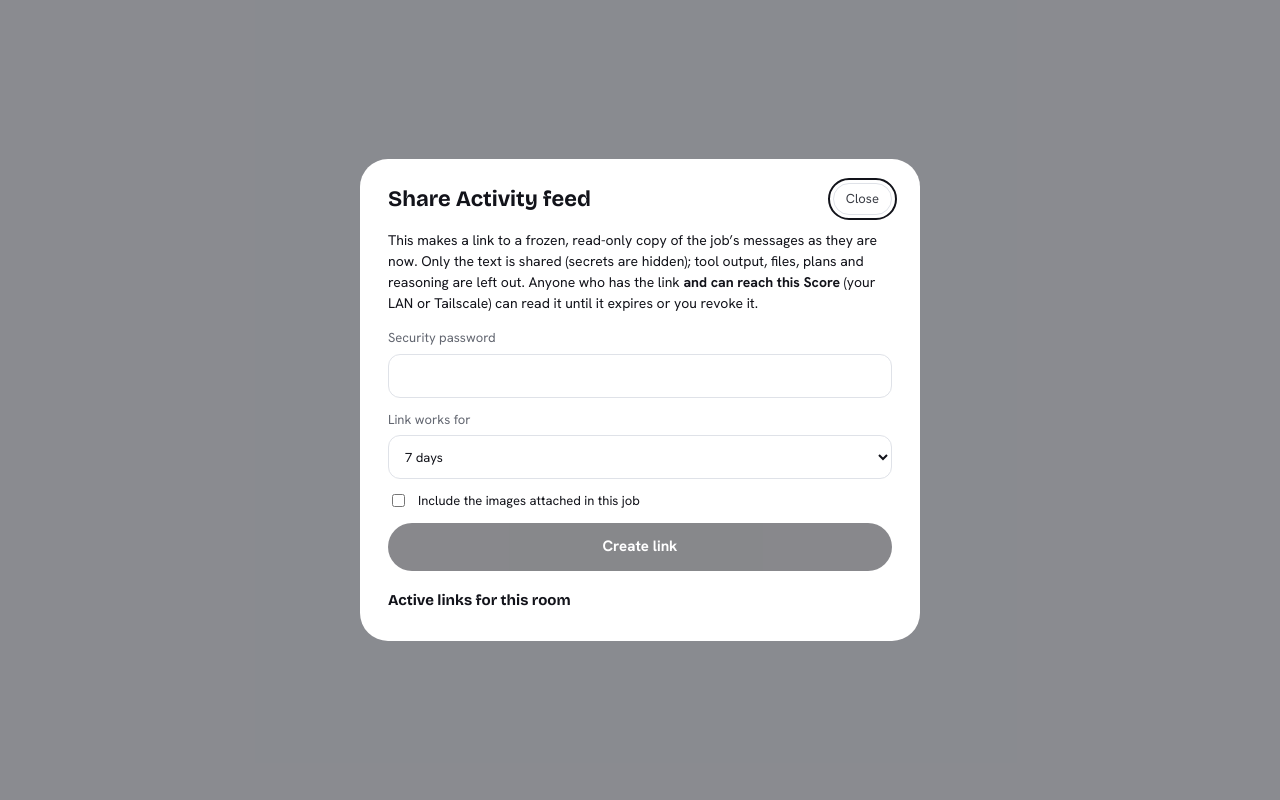
Scenario: a job share names the job and sends its id in the request
The image size is (1280, 800).
Expected: the heading "Share Activity feed" is shown, [388,183,591,216]
Expected: the text "the job’s" is shown, [687,231,740,249]
Type "correct horse" into the password field labelled "Security password" at (640, 376), box [388,354,892,398]
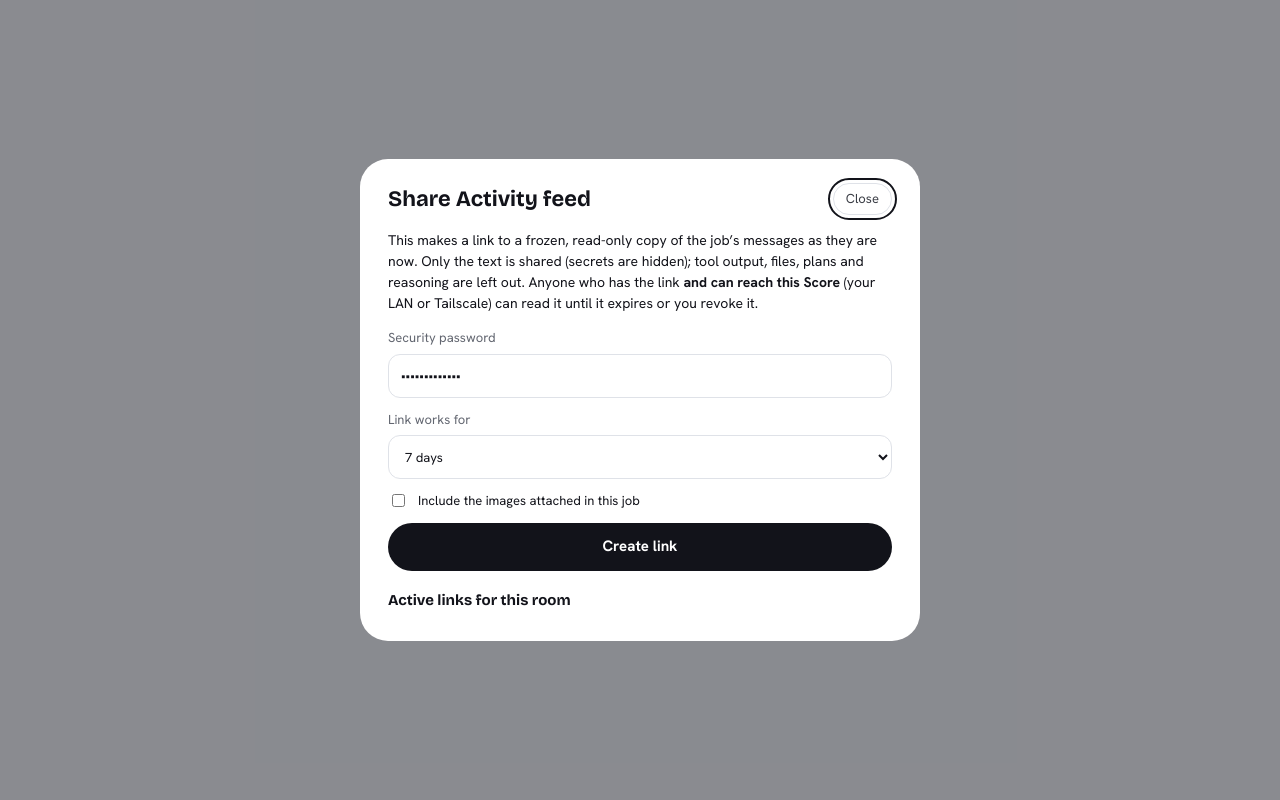
Click the button "Create link" at (640, 546), box [388,522,892,570]
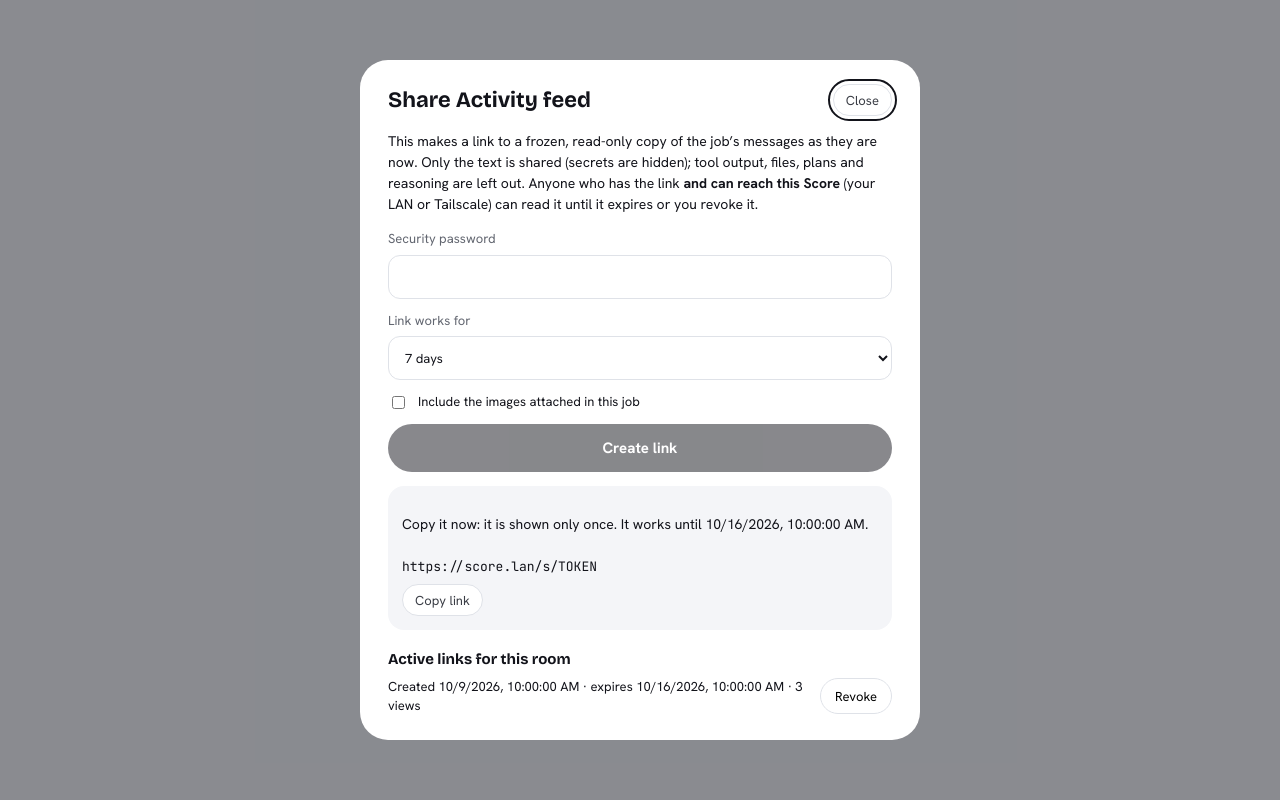
Expected: the text "https://score.lan/s/TOKEN" is shown, [402,558,597,575]
